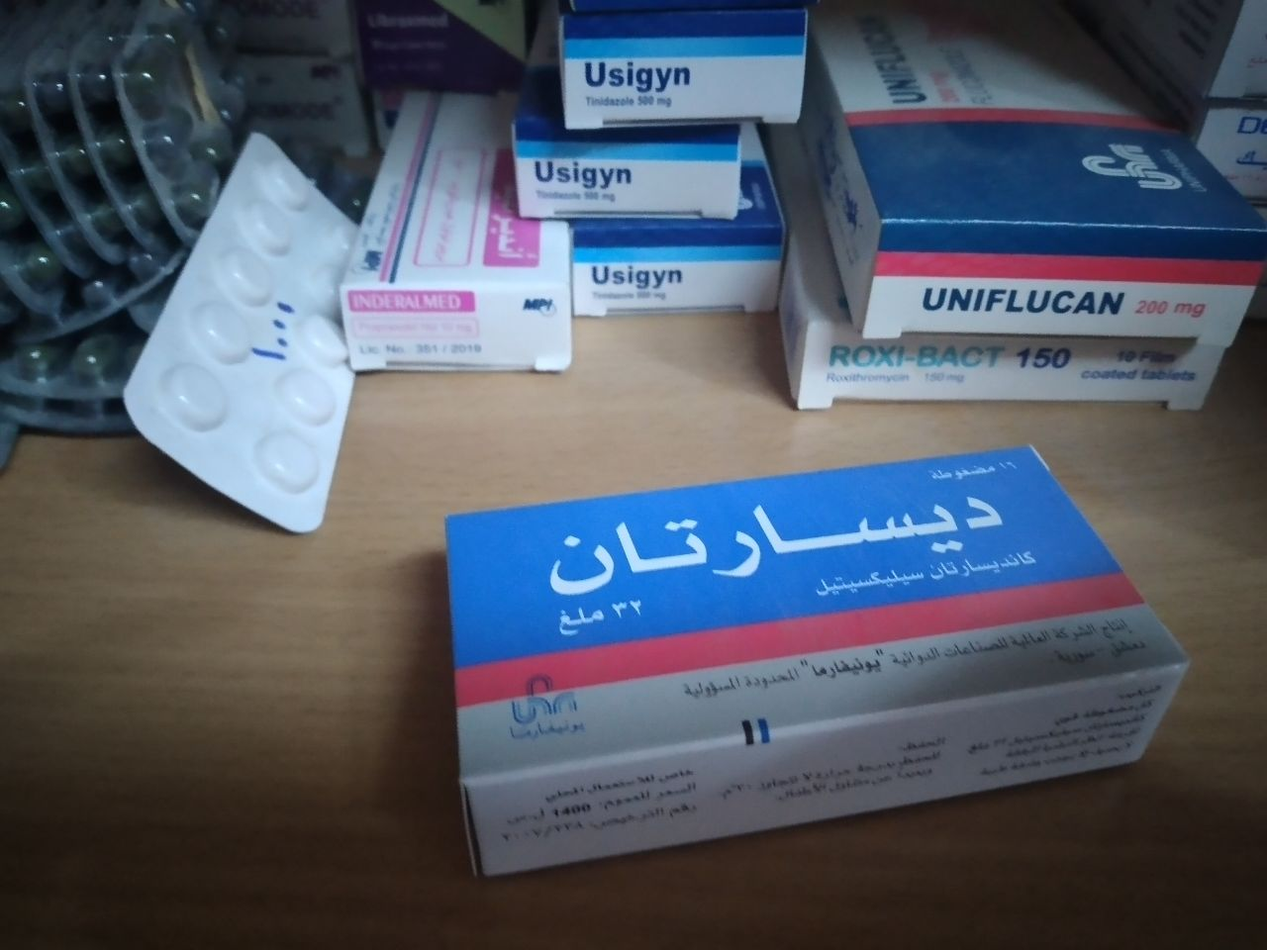Medicine: (428, 428, 1198, 873), (846, 0, 1267, 346), (359, 49, 601, 396), (552, 5, 844, 121), (510, 131, 752, 225), (582, 228, 780, 314)
